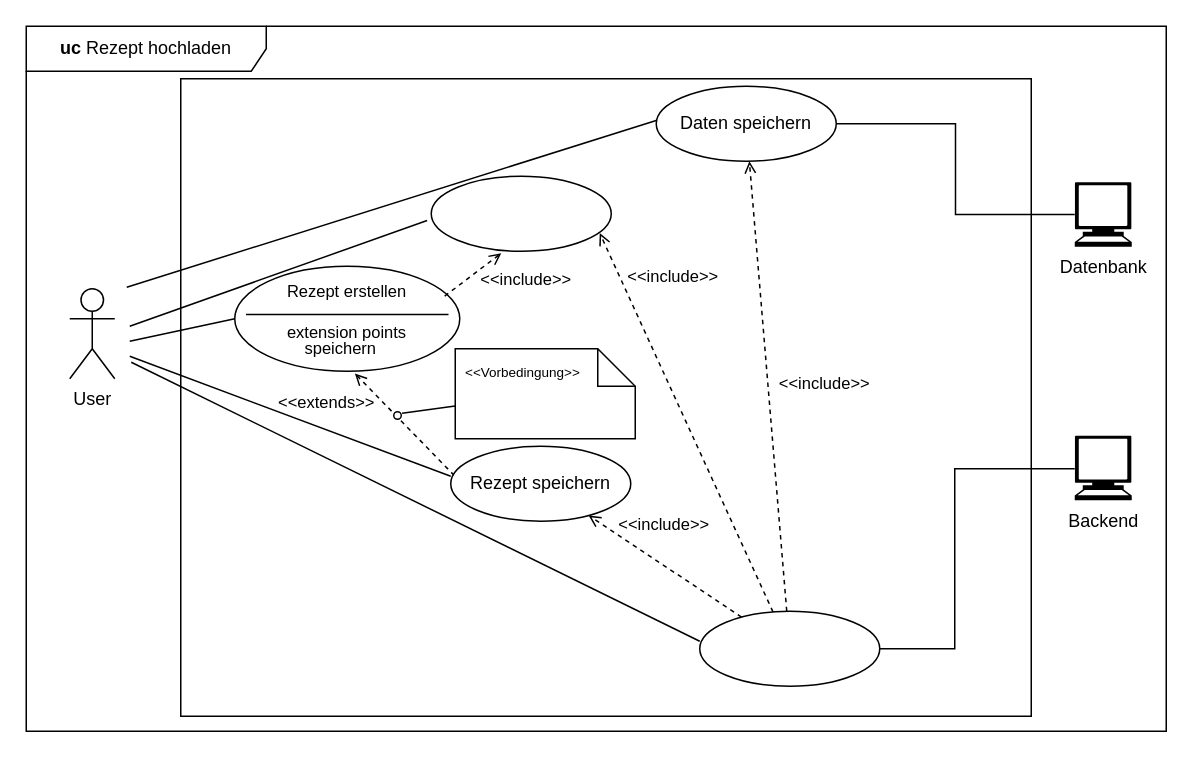
The diagram is 1193 pixels wide and 758 high, and some of its shapes have lost their labels. Each missing label, with the centre of its shape:
Daten eintragen: the point at 520,213
Daten weiterleiten: the point at 789,648
{User ist angemeldet} extension point: speichern: the point at 544,393
